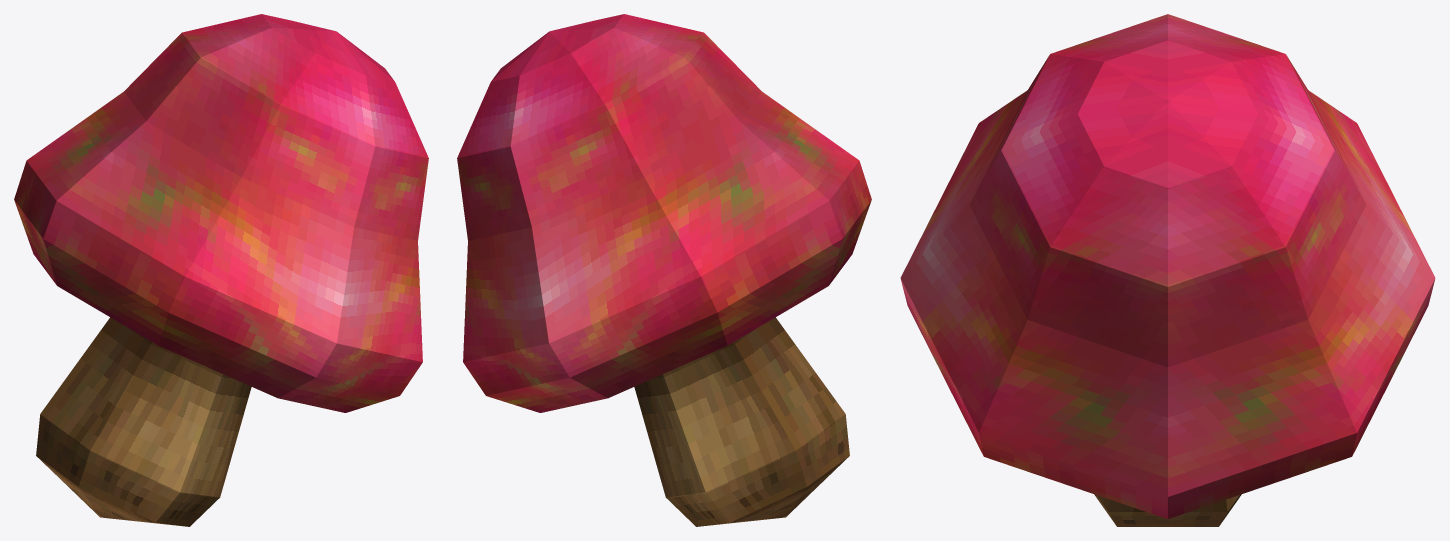
The model's file is Odd Mushroom.obj.
3 renders of one model, left to right at view 1: azimuth 30°, elevation 25°; view 2: azimuth 150°, elevation 25°; view 3: azimuth 270°, elevation 25°, orthographic. The views are drawn at different scales.
Visible parts, largest first — view 1: node-03B32EE5_geom-03B32EE5, node-014CA613_geom-014CA613; view 2: node-03B32EE5_geom-03B32EE5, node-014CA613_geom-014CA613; view 3: node-03B32EE5_geom-03B32EE5, node-014CA613_geom-014CA613.
Boxes of the visible parts, x1,y1,x2,y2 form: node-03B32EE5_geom-03B32EE5: [14, 14, 428, 412]; node-014CA613_geom-014CA613: [36, 317, 251, 526]; node-03B32EE5_geom-03B32EE5: [457, 14, 871, 412]; node-014CA613_geom-014CA613: [634, 317, 849, 526]; node-03B32EE5_geom-03B32EE5: [900, 14, 1435, 518]; node-014CA613_geom-014CA613: [1094, 494, 1241, 526].
Bounding box in the file's own units: 0.4778 × 0.5705 × 0.5058.
2 materials, 2 textured.
